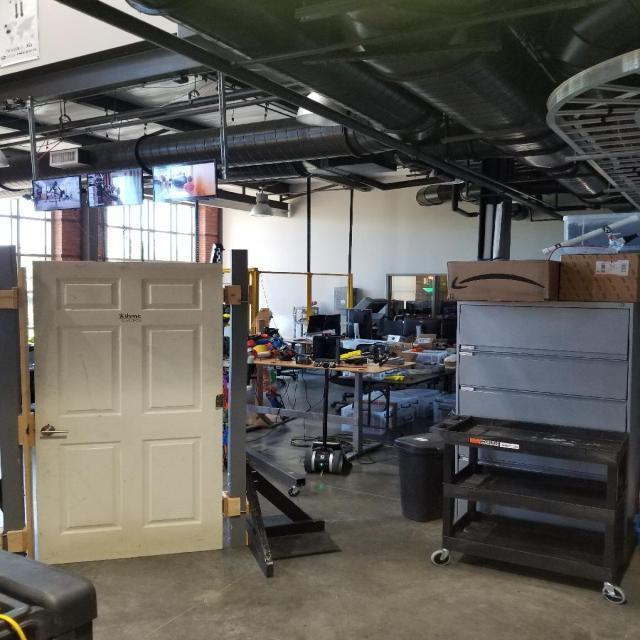door: (26, 257, 226, 568), (36, 423, 74, 438)
